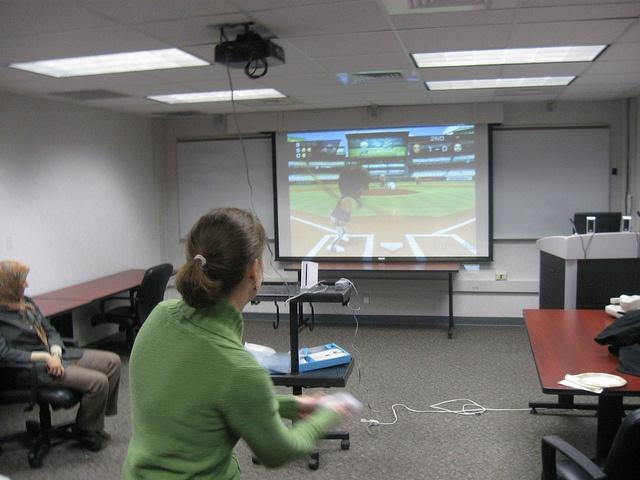Kursi: (87, 261, 172, 354)
Meja: (522, 306, 639, 412)
